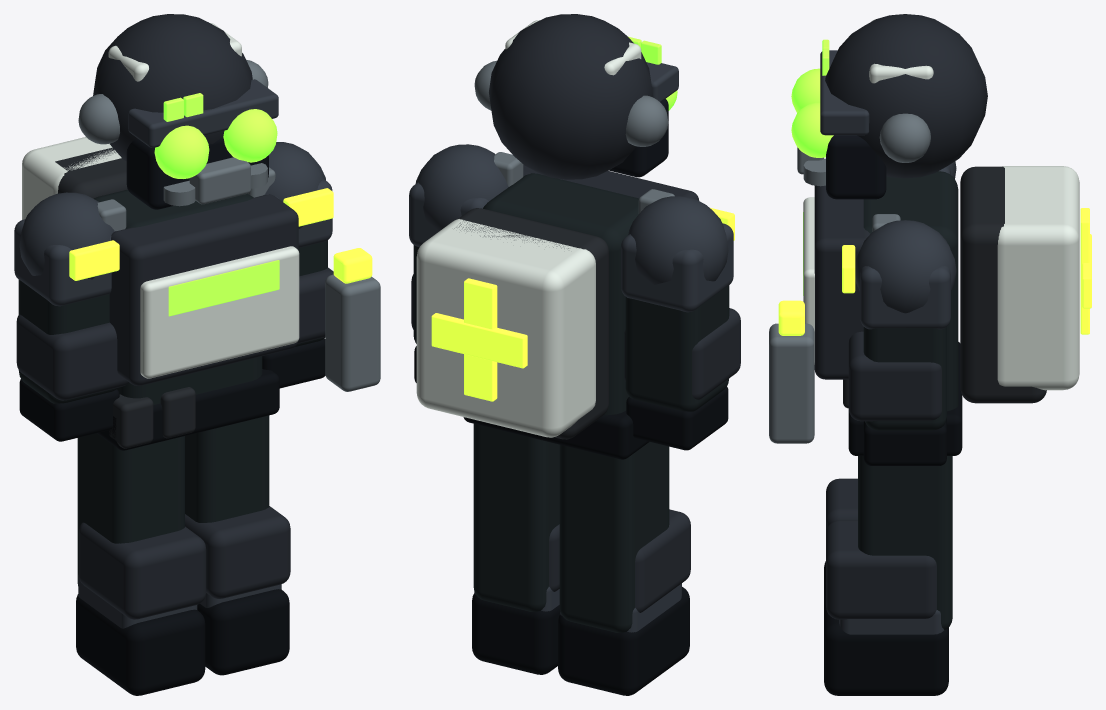
File: medic_l02.glb
3 views of the same model, side by side, from view 1: azimuth 30°, elevation 25°; view 2: azimuth 150°, elevation 25°; view 3: azimuth 270°, elevation 25° (orthographic). The views are drawn at different scales.
Parts seen in each view (by area): view 1: trouser (×2), shaped_knee_guard (×2), boot (×2), segmented_vest, reinforced_vest, rounded_helmet, forearm_plate (×2), shoulder_joint (×2), aid_injector, glove (×2), body, sleeve (×2) (+19 smaller); view 2: trouser (×2), medical_pack, rounded_helmet, boot (×2), shoulder_joint (×2), body, sleeve, shoulder_plate (×2), field_pack, shaped_knee_guard (×2), glove, aid_cross_horizontal (+10 smaller); view 3: medical_pack, rounded_helmet, field_pack, trouser, shaped_knee_guard (×2), boot, segmented_vest, shoulder_joint, forearm_plate, body, aid_injector, sleeve (+16 smaller).
Boxes of the visible parts, x1,y1,x2,y2 form: trouser (×2): (77, 415, 269, 585); shaped_knee_guard (×2): (79, 506, 290, 619); boot (×2): (76, 589, 289, 695); segmented_vest: (109, 194, 298, 385); reinforced_vest: (140, 246, 299, 378); rounded_helmet: (93, 14, 252, 161); forearm_plate (×2): (16, 267, 333, 400); shoulder_joint (×2): (19, 142, 325, 279); aid_injector: (325, 274, 380, 391); glove (×2): (19, 338, 325, 441); body: (94, 189, 262, 404); sleeve (×2): (18, 240, 327, 403); trouser (×2): (473, 423, 669, 632); medical_pack: (416, 219, 595, 437); rounded_helmet: (489, 14, 653, 179); boot (×2): (472, 587, 689, 695); shoulder_joint (×2): (415, 144, 728, 284); body: (483, 173, 638, 415); sleeve: (625, 285, 729, 411); shoulder_plate (×2): (409, 182, 733, 312); field_pack: (454, 208, 608, 439); shaped_knee_guard (×2): (549, 509, 690, 612); glove: (626, 387, 728, 450); aid_cross_horizontal: (431, 313, 527, 368); medical_pack: (997, 166, 1079, 390); rounded_helmet: (825, 14, 987, 178); field_pack: (960, 166, 1046, 403); trouser: (858, 456, 952, 629); shaped_knee_guard (×2): (826, 478, 936, 619); boot: (824, 603, 948, 695); segmented_vest: (814, 185, 870, 379); shoulder_joint: (855, 220, 956, 313); forearm_plate: (848, 331, 941, 421); body: (863, 171, 958, 411); aid_injector: (769, 323, 814, 443); sleeve: (863, 327, 946, 430).
Bounding box in the file's own units: 0.91 × 1.86 × 0.8525.
